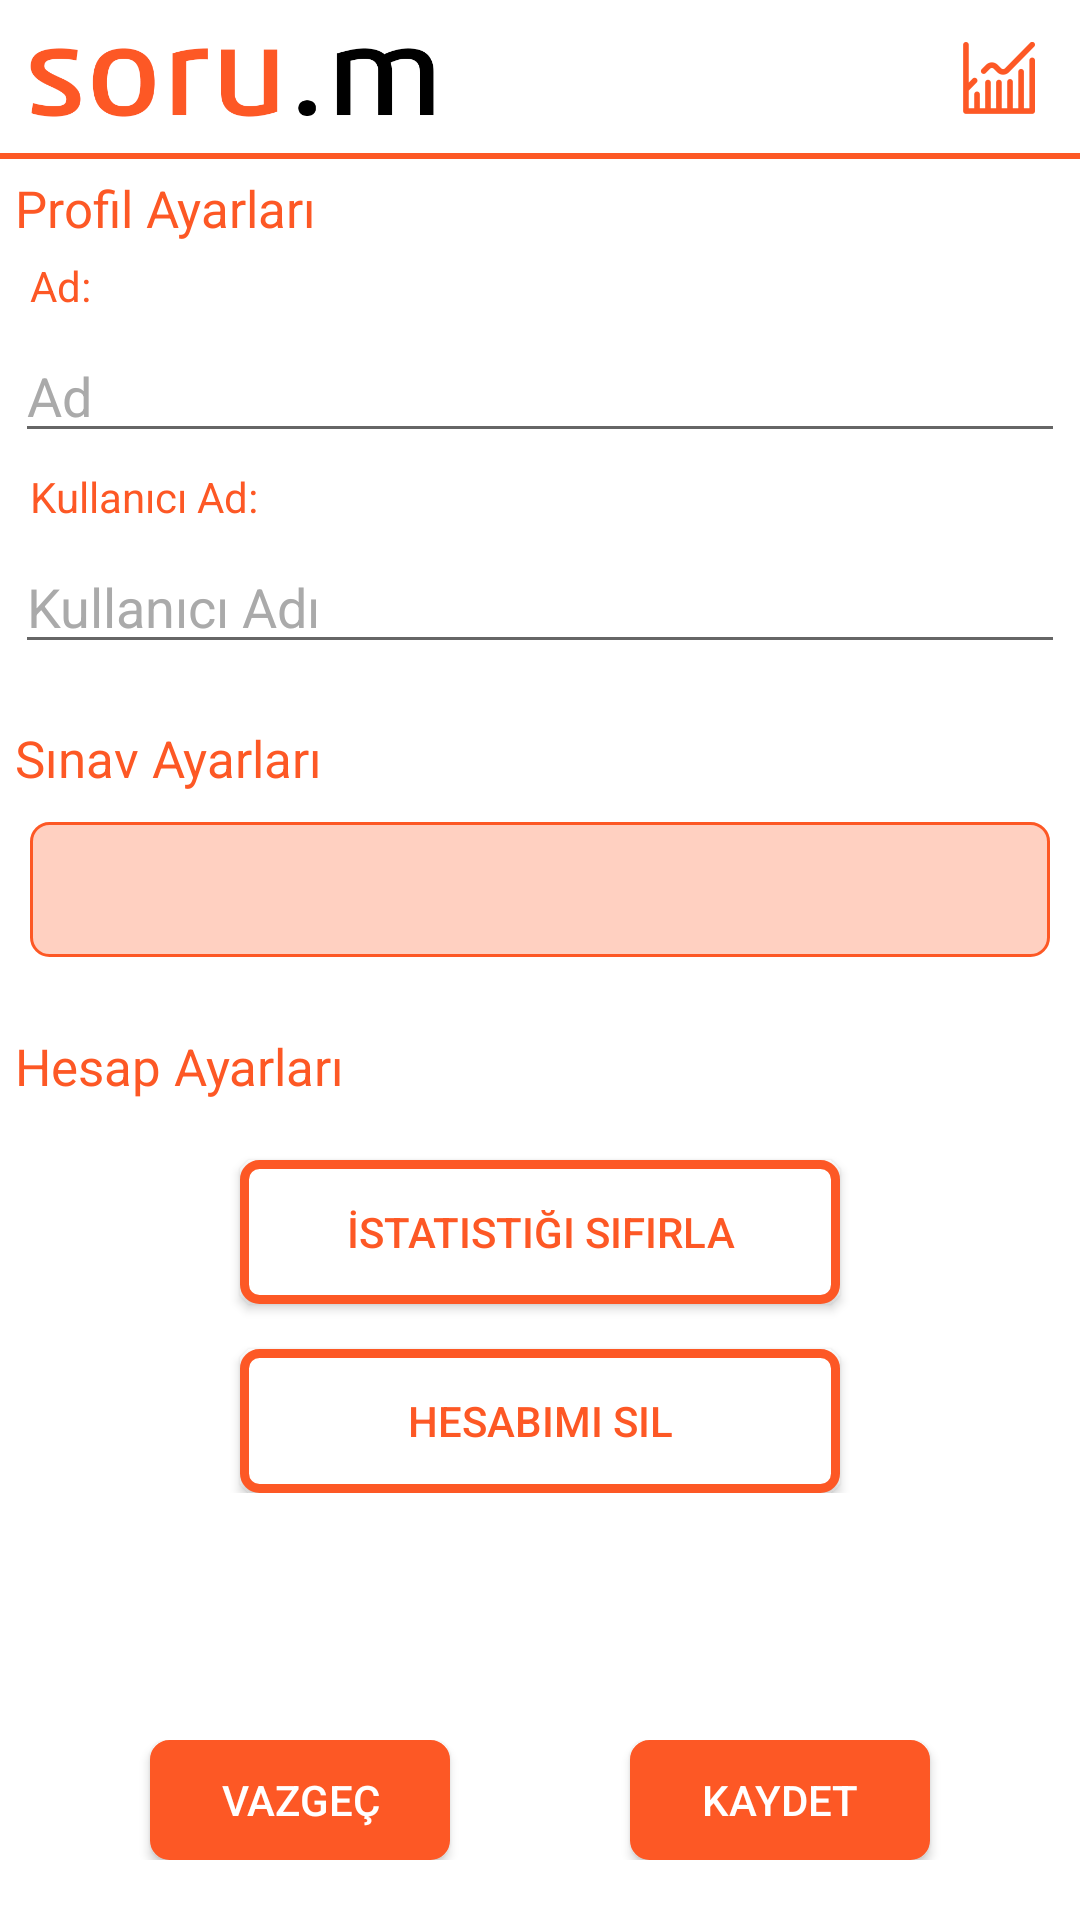

Named icons in this screenshot (1080x1920) and their centers, (x=x, y=y):
analiz: (x=999, y=78)
